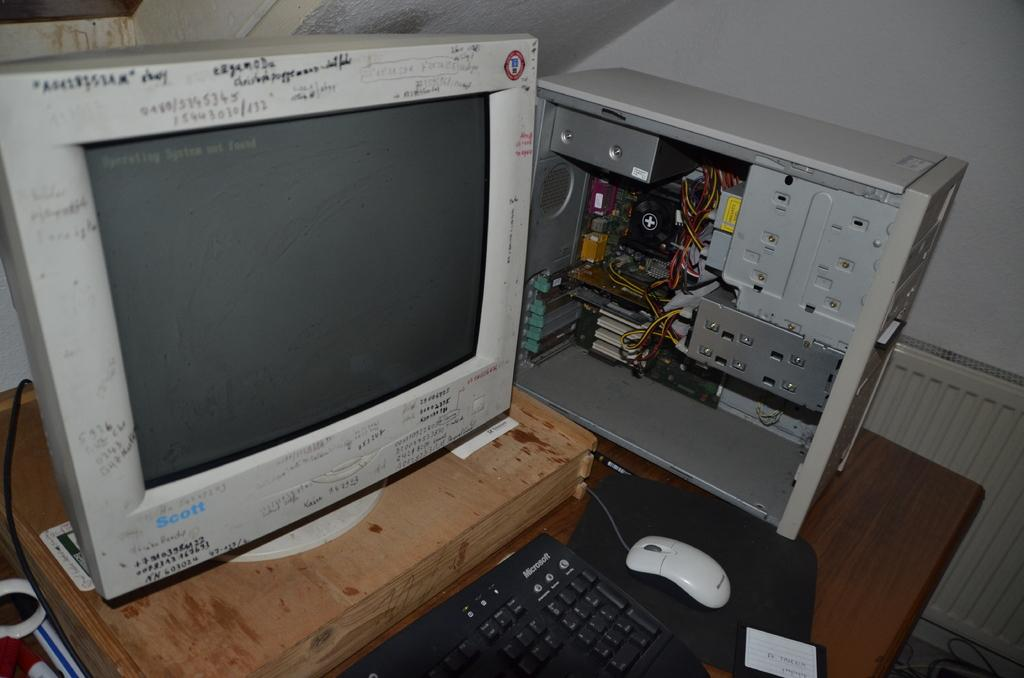Computer-mouse: (585, 482, 732, 608)
